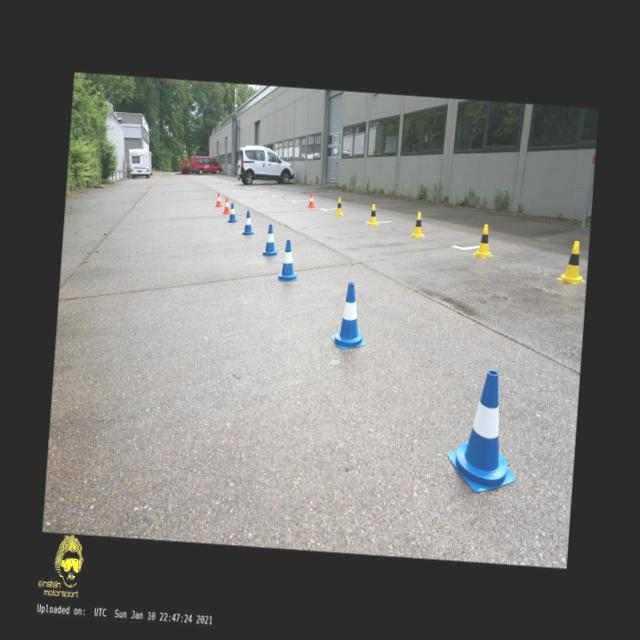blue_cone: (444, 367, 522, 495), (330, 280, 370, 350), (276, 239, 300, 282), (262, 224, 279, 257), (242, 210, 254, 235), (228, 202, 238, 222)
orange_cone: (222, 196, 231, 214), (308, 192, 316, 208), (214, 191, 222, 207)
yellow_cone: (557, 239, 587, 284), (473, 222, 495, 258), (410, 210, 426, 238), (367, 203, 379, 226), (334, 197, 344, 216)
